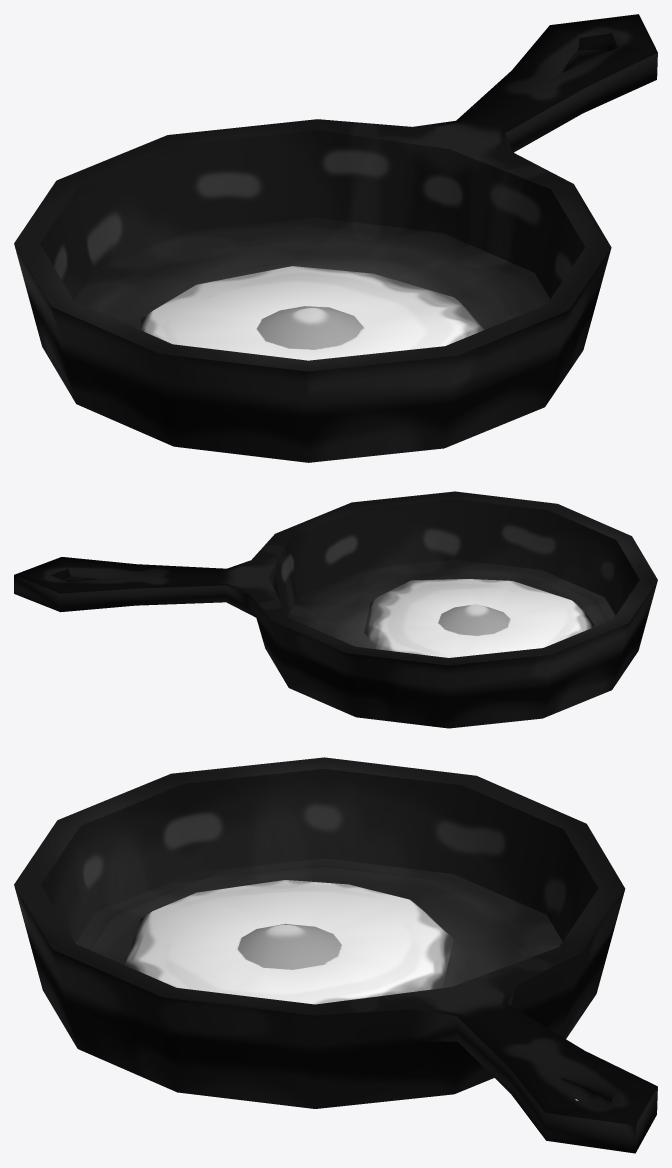
File: obj_FryingPan.fbx
The picture shows the model from 3 angles, top to bottom: view 1: azimuth 30°, elevation 25°; view 2: azimuth 150°, elevation 25°; view 3: azimuth 270°, elevation 25°; orthographic projection. The views are drawn at different scales.
Parts seen in each view (by area): view 1: Cylinder; view 2: Cylinder; view 3: Cylinder.
Boxes of the visible parts, <box> form: Cylinder: <box>14,14,657,462</box>; Cylinder: <box>14,491,657,728</box>; Cylinder: <box>14,757,657,1153</box>.
Size of the model in its own units: 0.356 by 0.0479 by 0.2625.
Materials: 1 (1 with a texture image).
